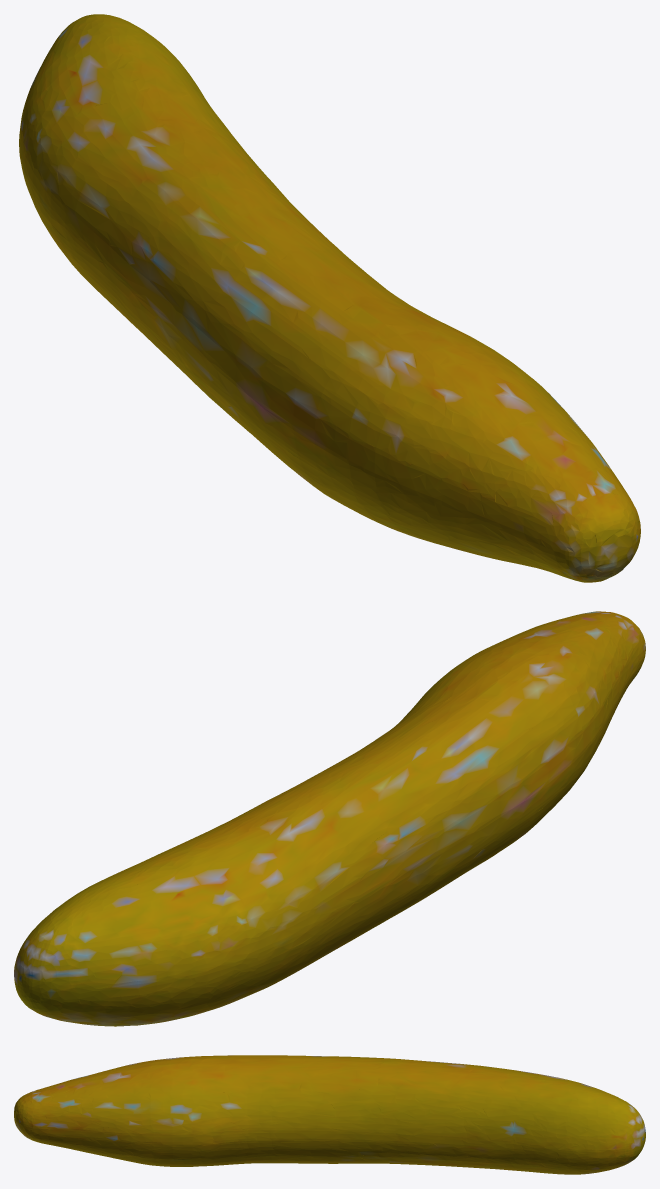
Rendered from 5_mesh_cousin_02.glb.
3 views of the same model, one above another, from view 1: azimuth 30°, elevation 25°; view 2: azimuth 150°, elevation 25°; view 3: azimuth 270°, elevation 25° (orthographic). The views are drawn at different scales.
Visible parts, largest first — view 1: geometry_0; view 2: geometry_0; view 3: geometry_0.
Part boxes in pixels (x1,y1,x2,y2): geometry_0: (19,14,640,582); geometry_0: (14,611,645,1026); geometry_0: (14,1055,645,1174).
Bounding box in the file's own units: 0.2366 × 0.1704 × 0.9995.
